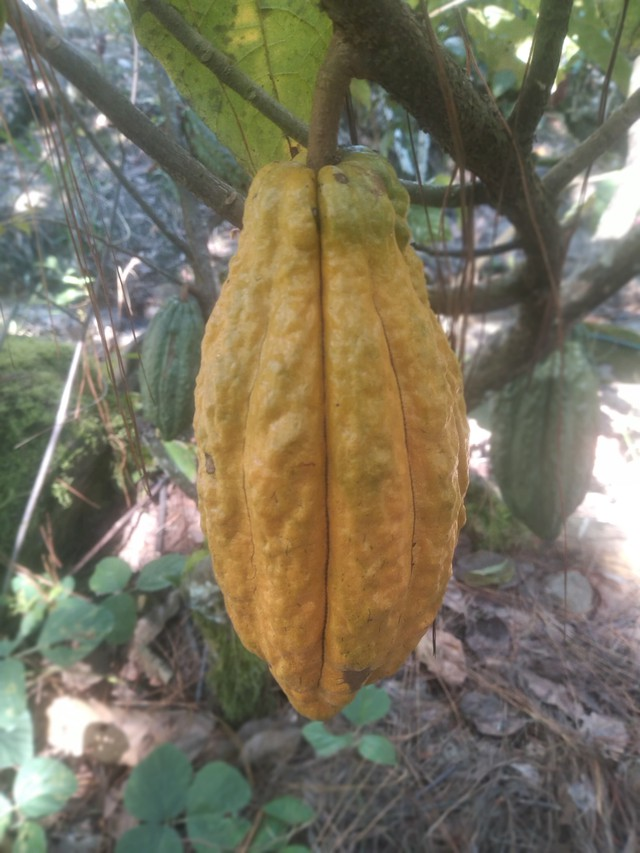Health: (183, 128, 484, 726)
